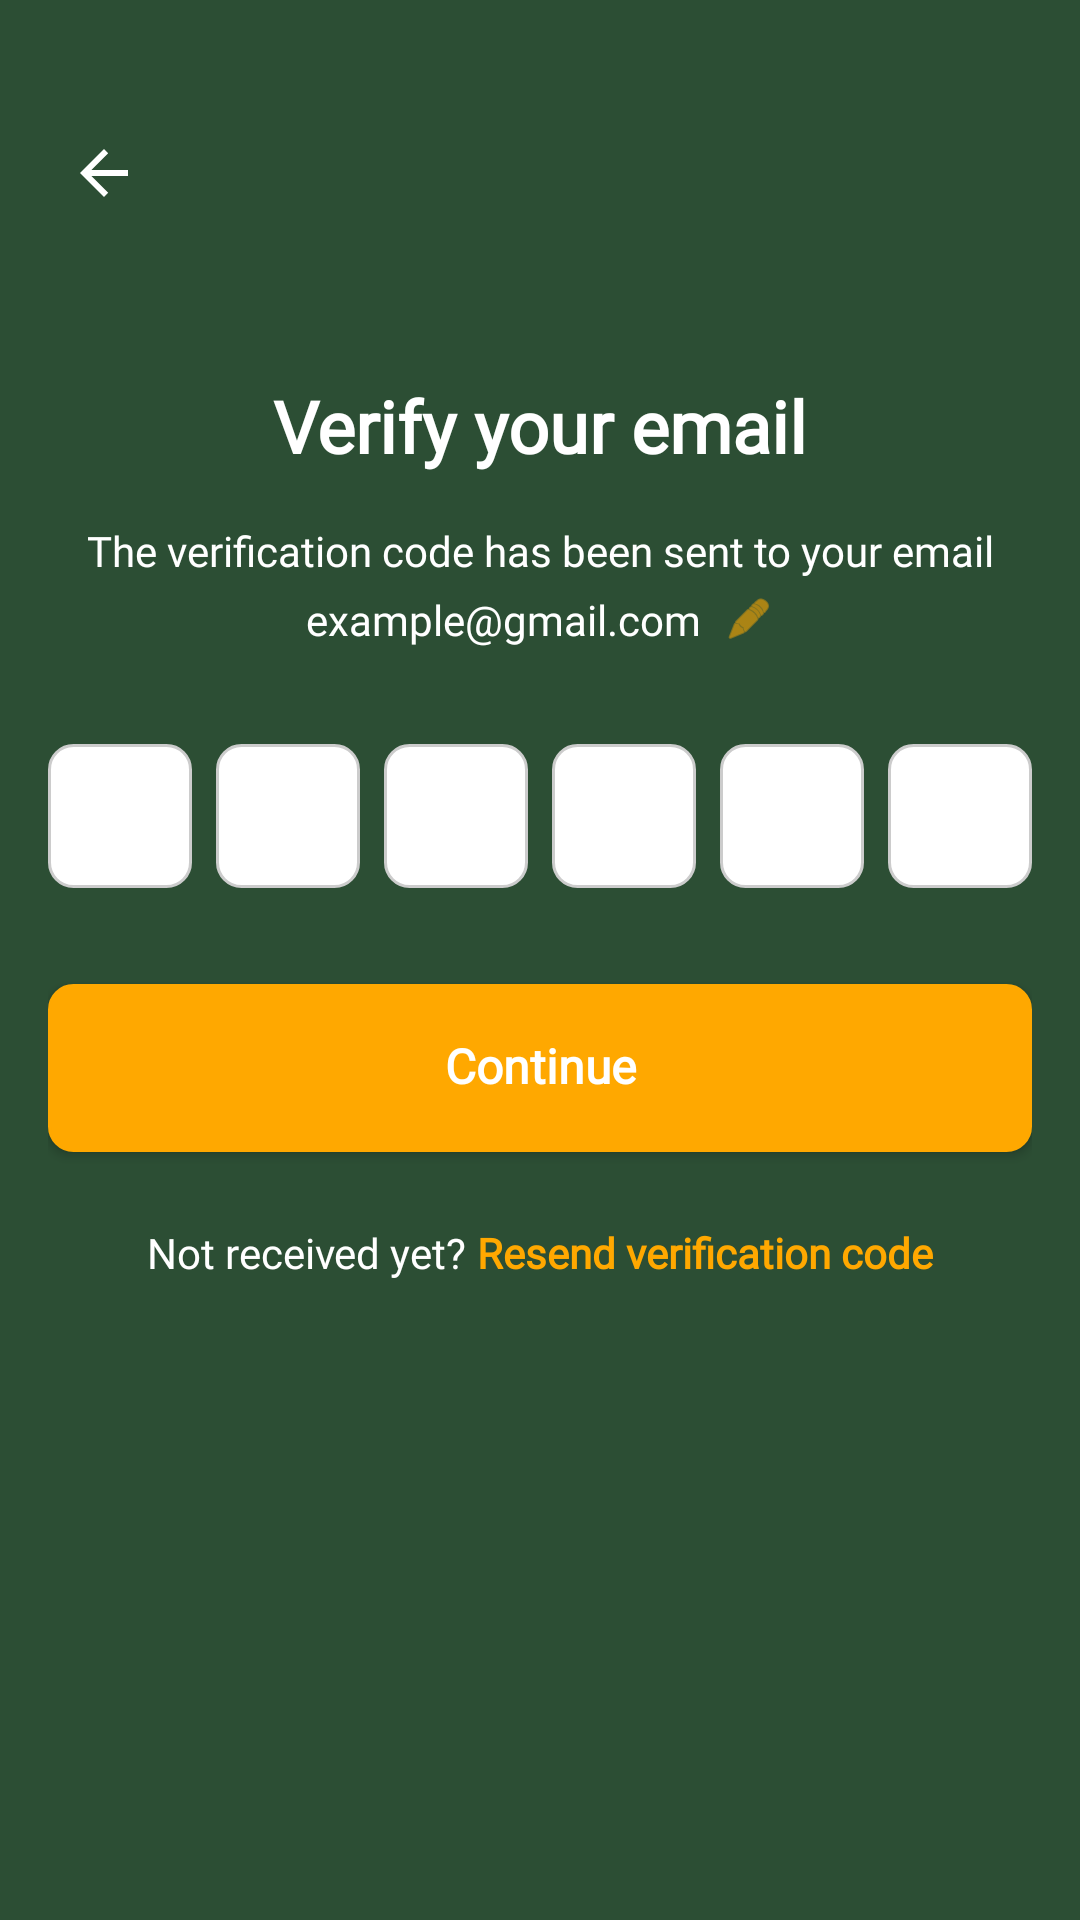

Icons on this 1080x1920 Android screen, each with its box as (x1, y1, x2, y2):
Back: (80, 149, 128, 197)
Edit Email: (729, 598, 769, 639)
